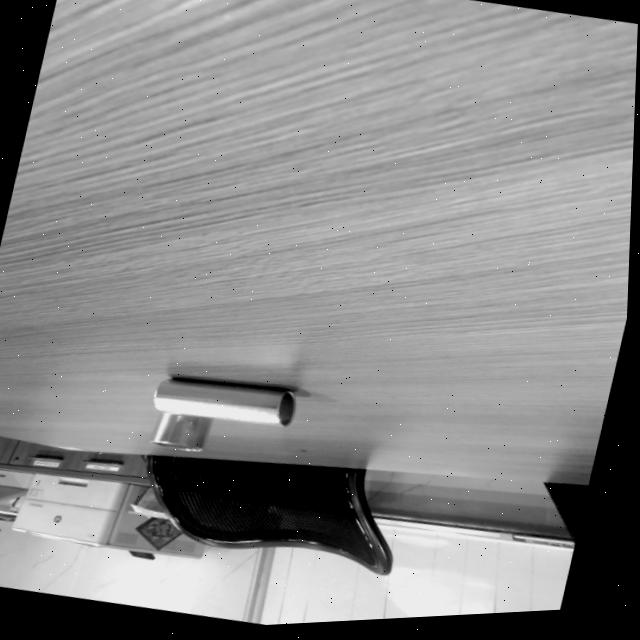Co_Lon: (152, 376, 298, 427)
Co_Nho: (150, 409, 211, 454)
